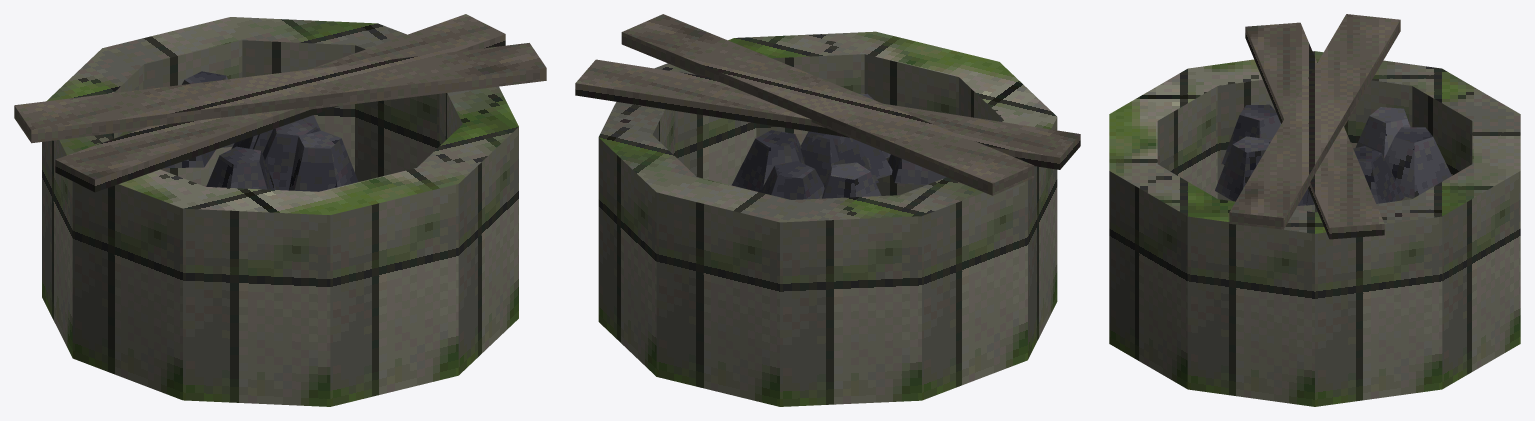
Rendered from pozo_tapado.obj.
3 renders of one model, left to right at view 1: azimuth 30°, elevation 25°; view 2: azimuth 150°, elevation 25°; view 3: azimuth 270°, elevation 25°, orthographic. The views are drawn at different scales.
Parts seen in each view (by area): view 1: pozo_tapado; view 2: pozo_tapado; view 3: pozo_tapado.
Boxes of the visible parts, x1=… form: pozo_tapado: x1=14, y1=14, x2=546, y2=406; pozo_tapado: x1=575, y1=14, x2=1080, y2=406; pozo_tapado: x1=1109, y1=14, x2=1520, y2=406.
Size of the model in its own units: 1.91 by 0.865 by 1.62.
3 materials, 3 textured.
